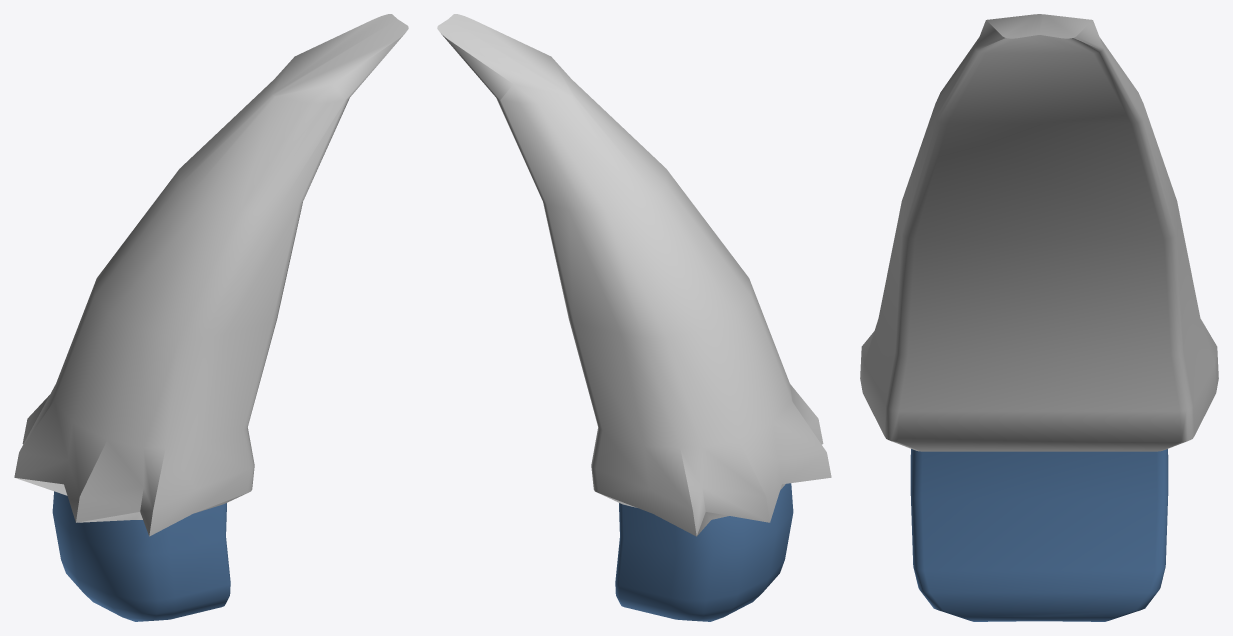
File: character_yetiArmRight.obj
3 renders of one model, left to right at view 1: azimuth 30°, elevation 25°; view 2: azimuth 150°, elevation 25°; view 3: azimuth 270°, elevation 25°, orthographic. The views are drawn at different scales.
Visible parts, largest first — view 1: character_yetiArmRight_Cube.4634; view 2: character_yetiArmRight_Cube.4634; view 3: character_yetiArmRight_Cube.4634.
Part boxes in pixels (box(x1,y1,x2,y2)): character_yetiArmRight_Cube.4634: box(14, 14, 408, 621); character_yetiArmRight_Cube.4634: box(437, 14, 831, 621); character_yetiArmRight_Cube.4634: box(860, 14, 1218, 621).
Size of the model in its own units: 0.4084 by 0.5708 by 0.2525.
